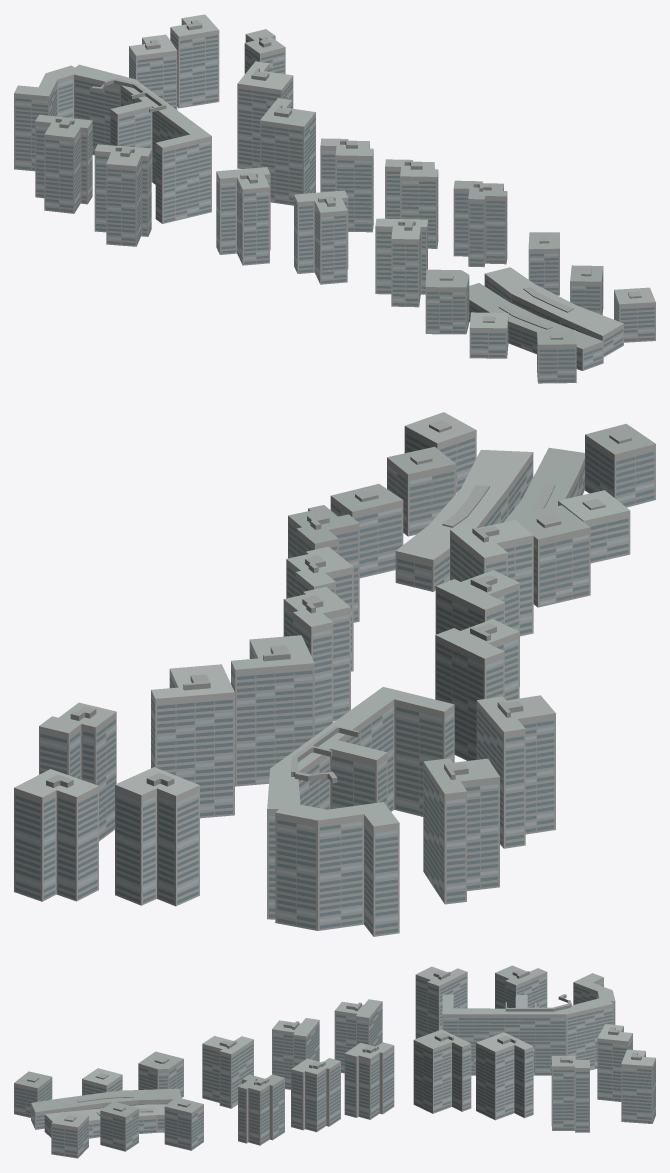
Rendered from apt-a13718001.glb.
3 views of the same model, one above another, from view 1: azimuth 30°, elevation 25°; view 2: azimuth 150°, elevation 25°; view 3: azimuth 270°, elevation 25° (orthographic). The views are drawn at different scales.
Visible parts, largest first — view 1: apt-a13718001; view 2: apt-a13718001; view 3: apt-a13718001.
Boxes of the visible parts, box(x1,y1,x2,y2) form: apt-a13718001: box(14, 14, 655, 383); apt-a13718001: box(14, 412, 655, 936); apt-a13718001: box(14, 965, 655, 1158).
Bounding box in the file's own units: 243 × 61 × 499.
